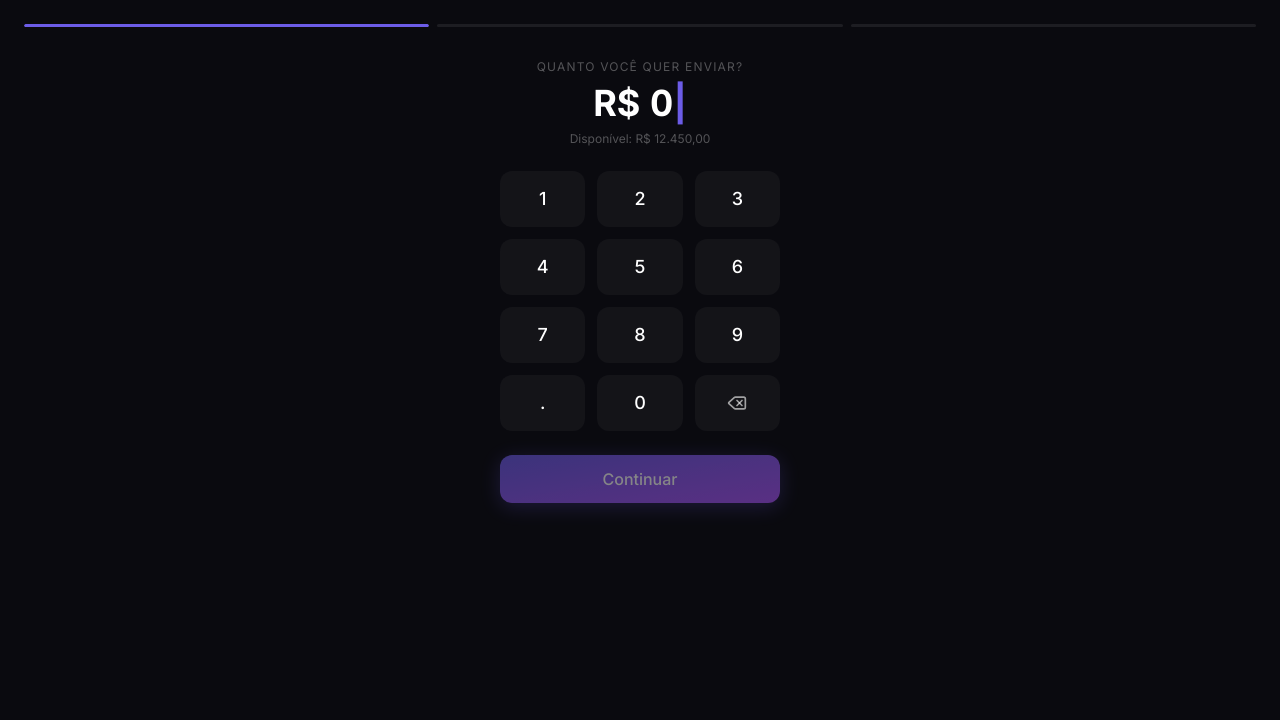
it: Transfer Wizard › validates recipient requires minimum 3 characters
The width and height of the screenshot is (1280, 720).
Expected: the text "Disponível: R$ 12.450,00" is shown, [570,131,710,147]
Click the button "5" at (640, 267), box [597,239,683,295]
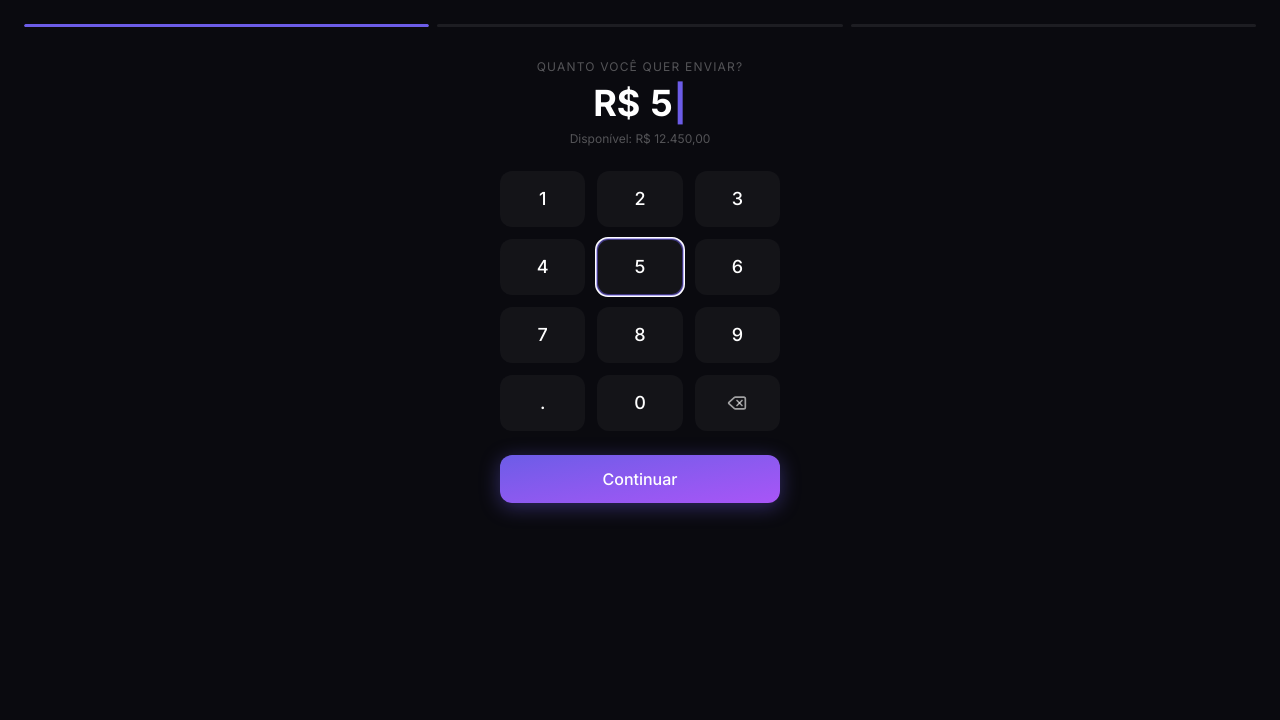
Click the button "0" at (640, 403), box [597,375,683,431]
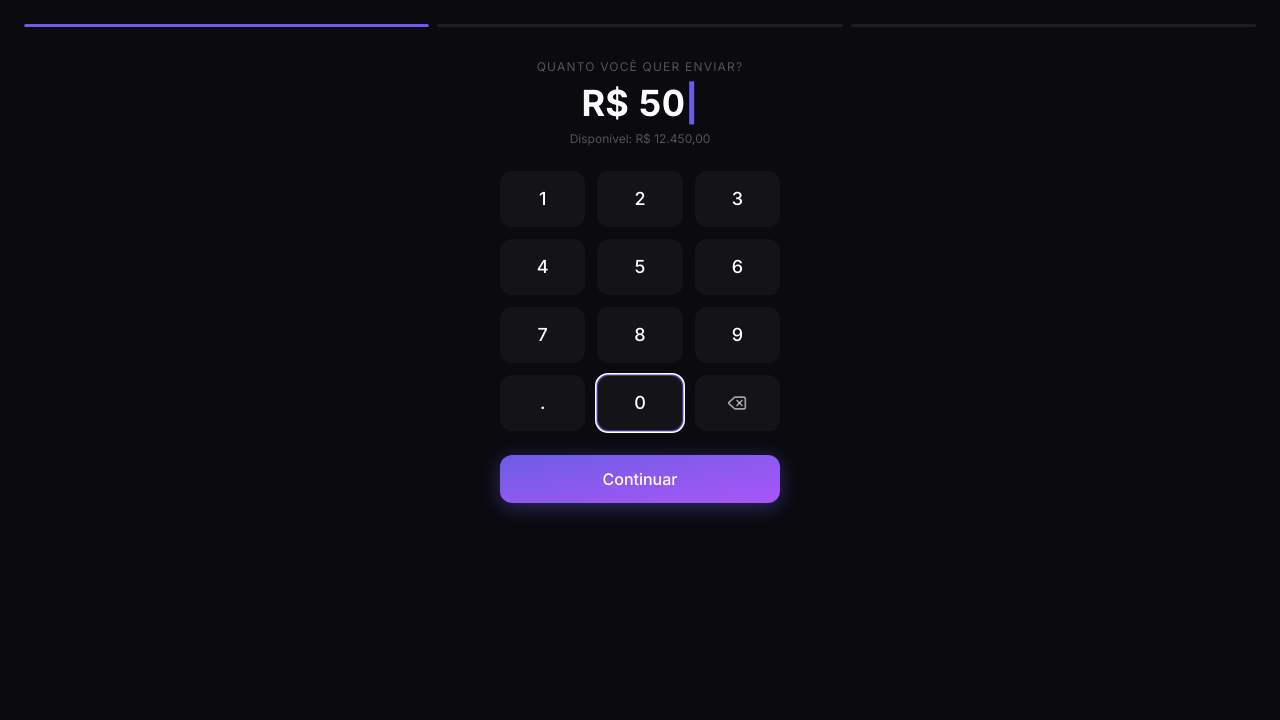
Result: the button "Continuar" is enabled
Click the button "Continuar" at (640, 479), box [500,455,780,503]
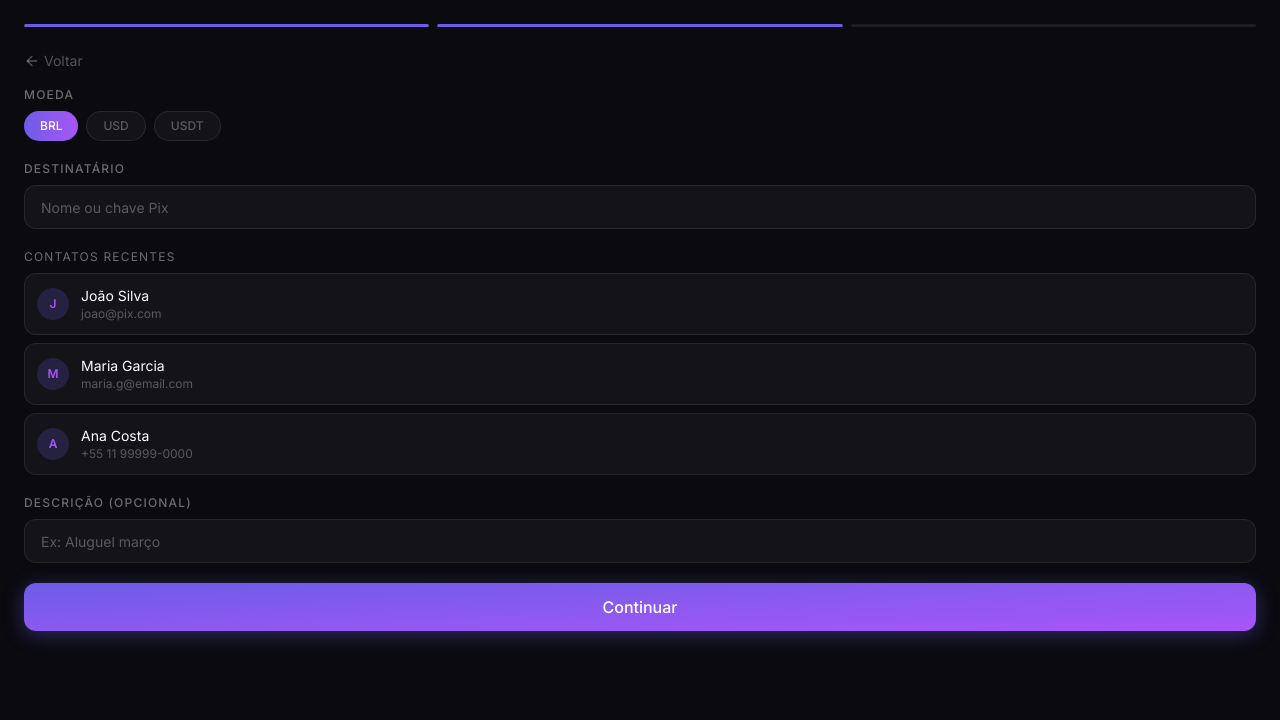
Result: the field with placeholder "Nome ou chave Pix" is shown
Type "AB" into the field with placeholder "Nome ou chave Pix" at (640, 207), box [24,185,1256,229]
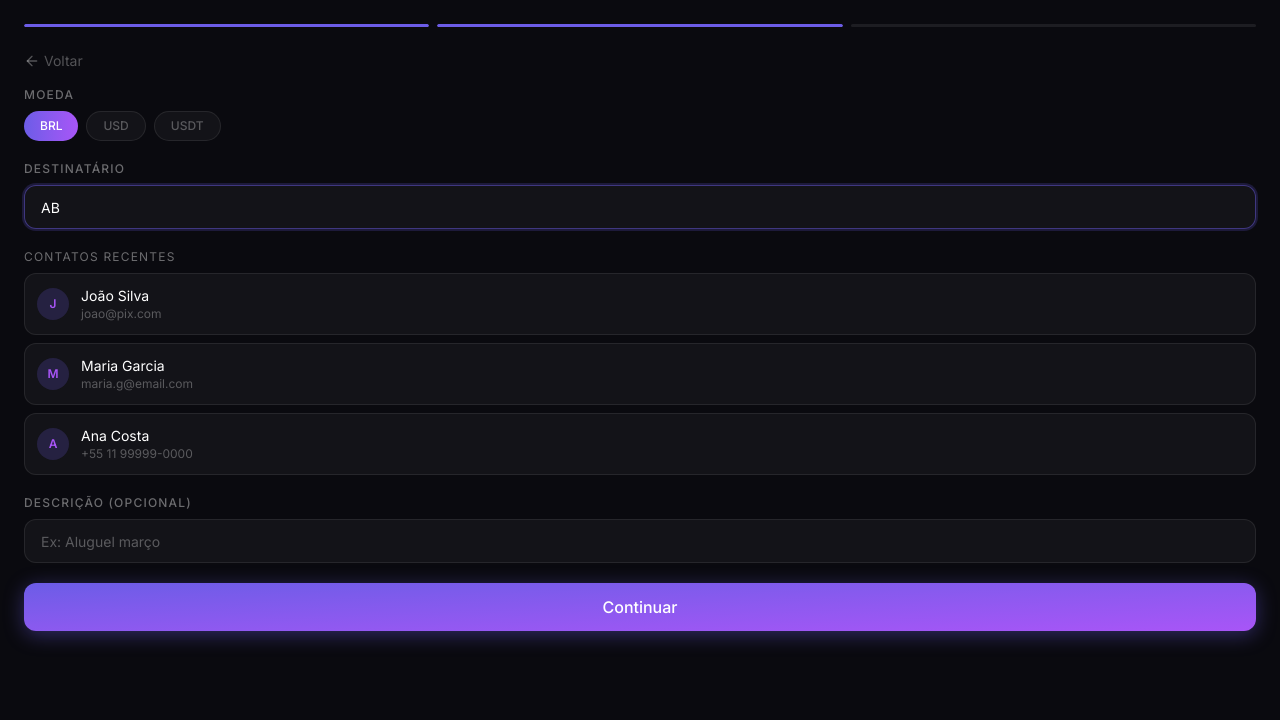
Click the button "Continuar" at (640, 607), box [24,583,1256,631]
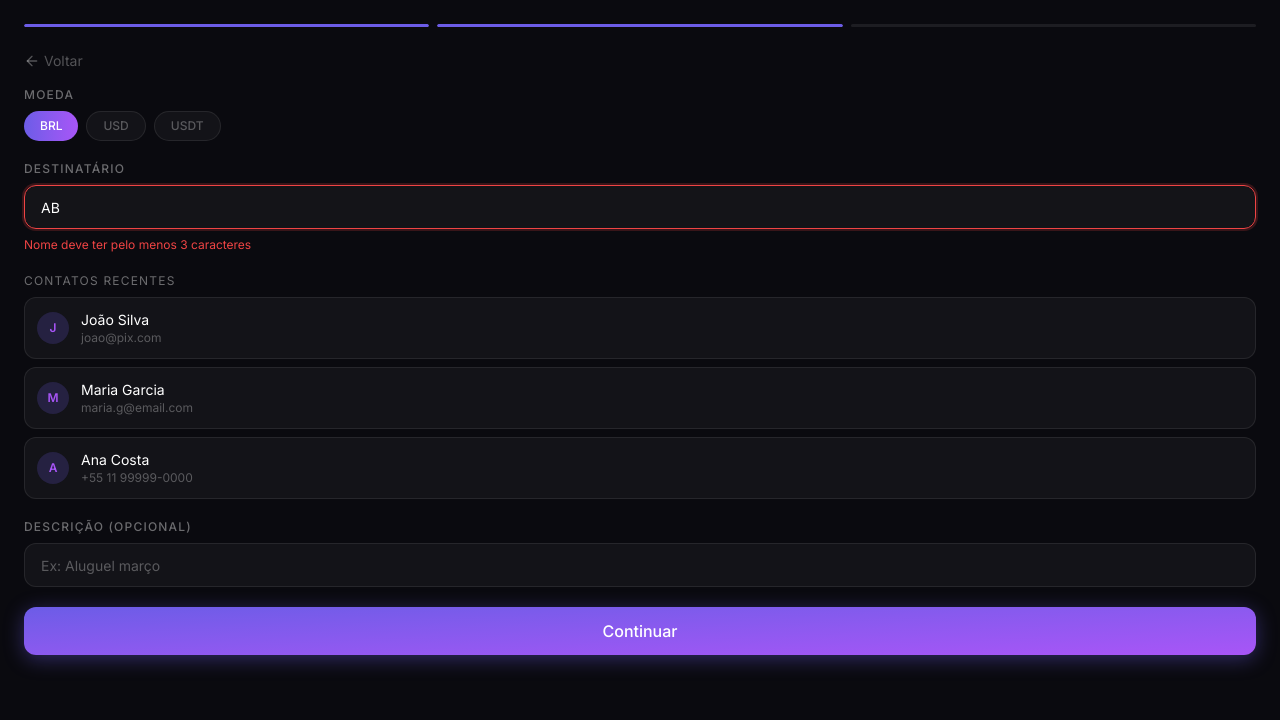
Result: the text "Nome deve ter pelo menos 3 caracteres" is shown at [24,237,251,252]
